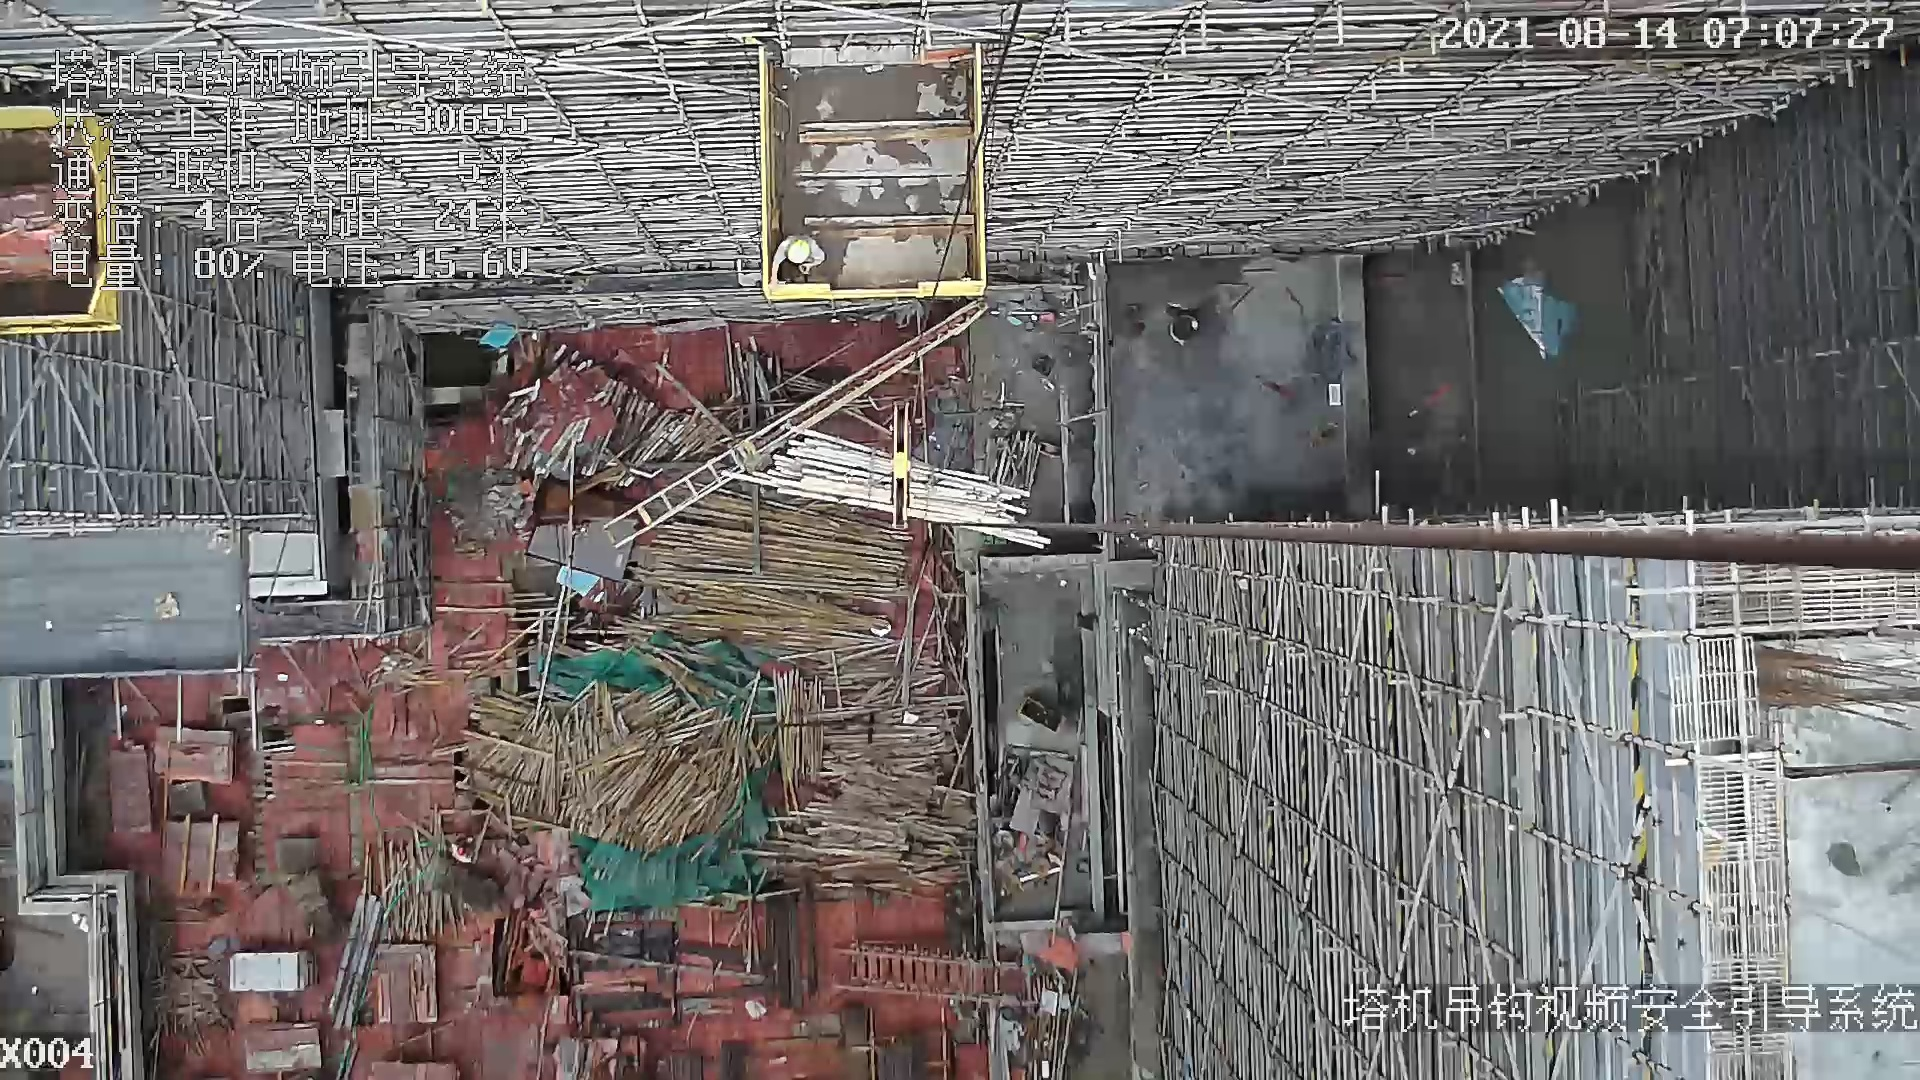helmet: (788, 240, 811, 264)
hook: (882, 399, 915, 531)
person: (767, 223, 819, 300)
